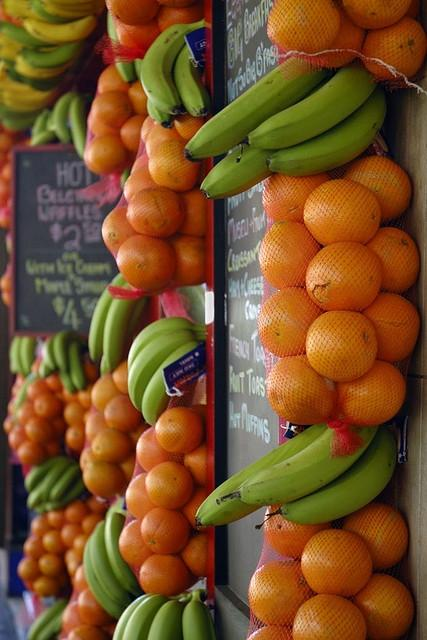banana: (255, 422, 397, 530), (184, 66, 337, 162), (194, 423, 328, 528), (216, 424, 379, 506), (247, 59, 384, 150), (265, 82, 386, 178), (127, 328, 206, 412), (140, 19, 204, 114), (142, 340, 204, 427), (199, 143, 282, 200), (127, 317, 205, 375), (104, 497, 146, 597), (90, 520, 132, 606), (102, 282, 142, 372), (88, 273, 126, 366), (84, 532, 118, 616), (174, 43, 211, 117), (121, 594, 170, 639), (112, 593, 158, 640), (23, 15, 97, 44), (107, 11, 136, 84), (147, 593, 192, 640), (182, 589, 218, 640), (25, 599, 69, 640), (22, 40, 84, 68), (40, 458, 78, 502), (24, 456, 68, 494), (16, 52, 73, 80), (52, 330, 86, 374), (68, 94, 90, 161), (53, 92, 80, 146), (0, 21, 56, 47), (12, 372, 40, 424), (44, 478, 86, 511), (29, 0, 86, 24), (49, 463, 82, 502), (2, 0, 52, 23), (124, 296, 146, 346), (36, 607, 66, 640), (146, 96, 174, 129), (0, 70, 38, 94), (69, 340, 86, 391), (41, 0, 105, 13), (22, 73, 66, 91), (1, 96, 50, 112), (18, 336, 36, 378), (0, 33, 34, 52), (28, 475, 46, 510), (41, 333, 57, 371), (8, 335, 22, 373), (2, 116, 37, 131), (32, 109, 49, 139), (30, 130, 54, 147), (59, 370, 76, 394), (38, 358, 53, 378), (1, 46, 21, 60), (120, 167, 131, 192), (134, 58, 144, 83), (46, 112, 54, 132), (36, 501, 46, 514), (38, 46, 62, 51), (50, 631, 60, 640)
